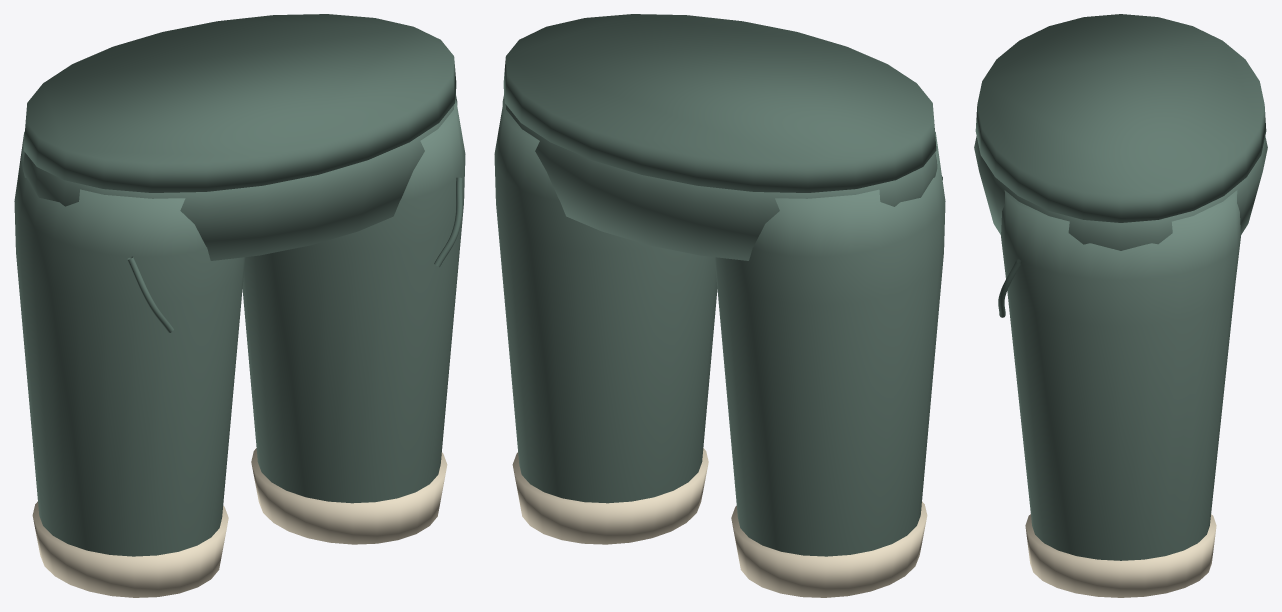
Rendered from cuffed.glb.
3 views of the same model, side by side, from view 1: azimuth 30°, elevation 25°; view 2: azimuth 150°, elevation 25°; view 3: azimuth 270°, elevation 25° (orthographic). The views are drawn at different scales.
Visible parts, largest first — view 1: pantLegL, waistband, pantLegR, waist, hemR, hemL, pocketSeamR, pocketSeamL; view 2: pantLegL, waistband, pantLegR, waist, hemR, hemL; view 3: pantLegR, waistband, hemR, waist, pocketSeamR.
Part boxes in pixels (box(x1,y1,x2,y2)): pantLegL: box(14, 131, 245, 556); waistband: box(23, 14, 456, 192); pantLegR: box(242, 100, 465, 503); waist: box(22, 94, 457, 260); hemR: box(251, 448, 447, 544); hemL: box(32, 501, 228, 597); pocketSeamR: box(434, 177, 462, 266); pocketSeamL: box(127, 256, 173, 332); pantLegL: box(714, 131, 945, 556); waistband: box(503, 14, 936, 192); pantLegR: box(494, 100, 717, 503); waist: box(502, 94, 937, 260); hemR: box(512, 448, 708, 544); hemL: box(731, 501, 927, 597); pantLegR: box(1001, 190, 1240, 560); waistband: box(975, 14, 1266, 222); hemR: box(1025, 514, 1216, 597); waist: box(974, 136, 1267, 250); pocketSeamR: box(998, 259, 1021, 317).
Bounding box in the file's own units: 0.558 × 0.572 × 0.372.
